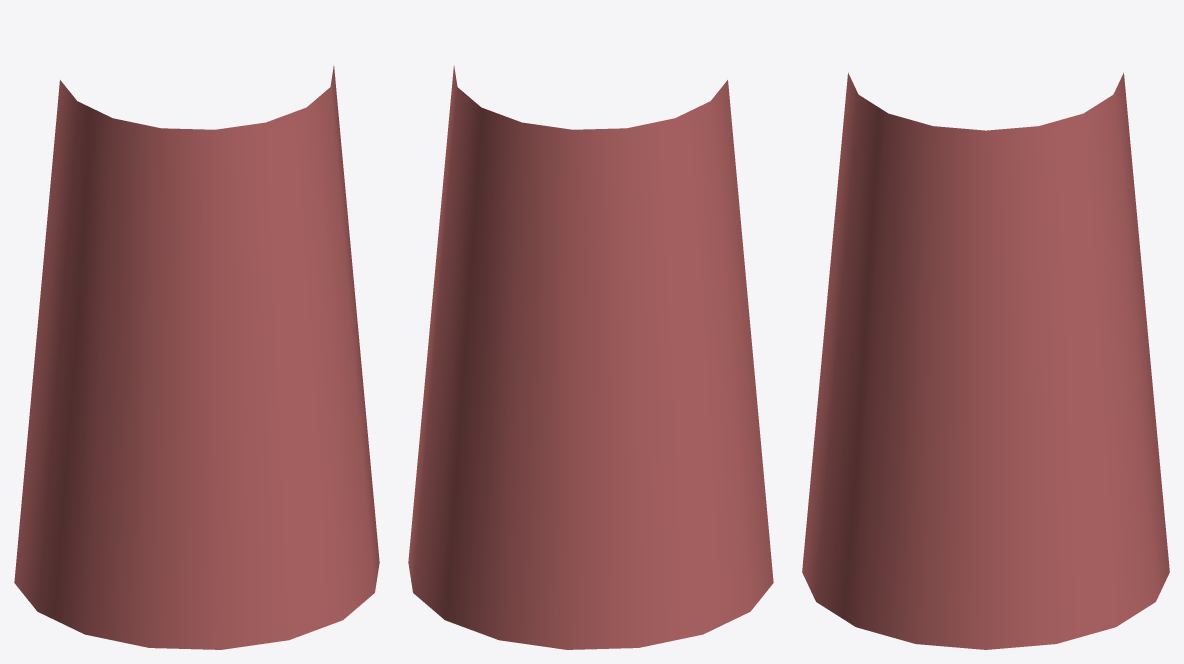
Rendered from chr_rabbit.glb.
3 renders of one model, left to right at view 1: azimuth 30°, elevation 25°; view 2: azimuth 150°, elevation 25°; view 3: azimuth 270°, elevation 25°, orthographic.
Visible parts, largest first — view 1: White_Rabbit_Mesh; view 2: White_Rabbit_Mesh; view 3: White_Rabbit_Mesh.
Boxes of the visible parts, box(x1,y1,x2,y2) form: White_Rabbit_Mesh: box(14, 65, 379, 649); White_Rabbit_Mesh: box(408, 65, 773, 649); White_Rabbit_Mesh: box(802, 72, 1169, 649).
Size of the model in its own units: 0.4 by 0.6 by 0.4.
